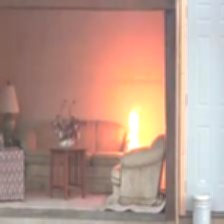fire: (124, 101, 147, 150)
